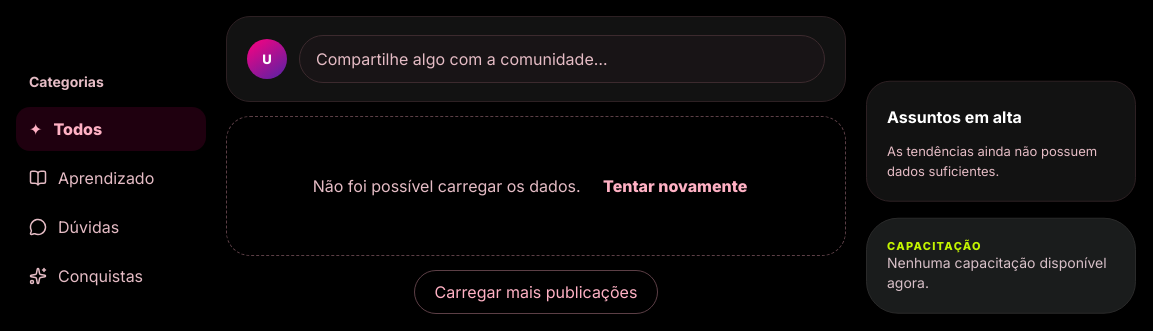
Test: Comunidade da Fase 8 › exibe erro e permite retry
Click the button "Tentar novamente" at (675, 186), box [591,169,759,203]
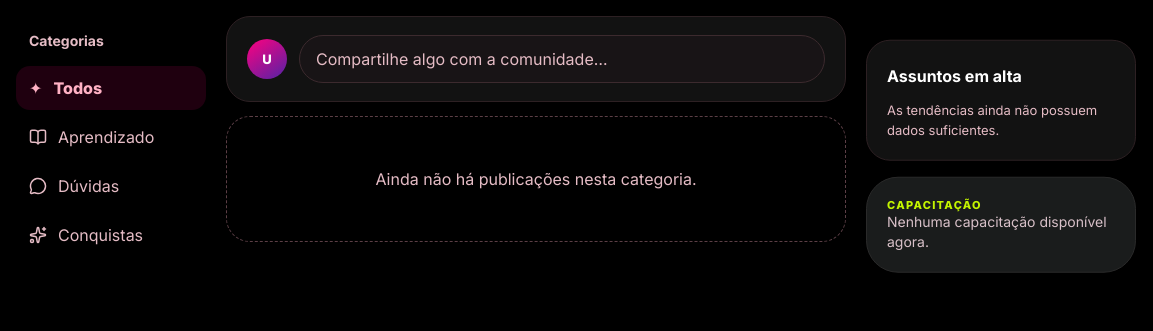
Now the text "Ainda não há publicações nesta categoria." is shown, box [226,116,846,242]
